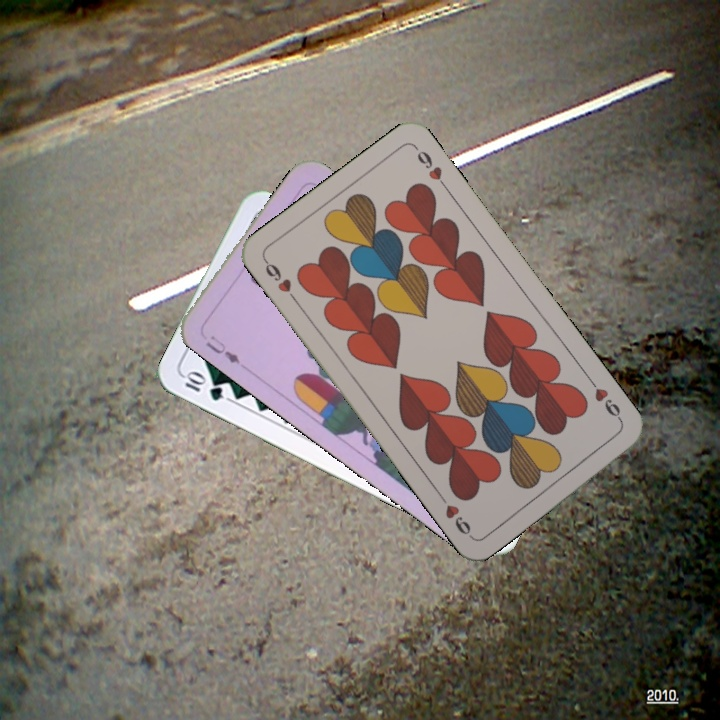EU: (201, 331, 243, 367)
G10: (180, 367, 227, 404)
H9: (260, 255, 301, 306), (585, 375, 626, 426)
